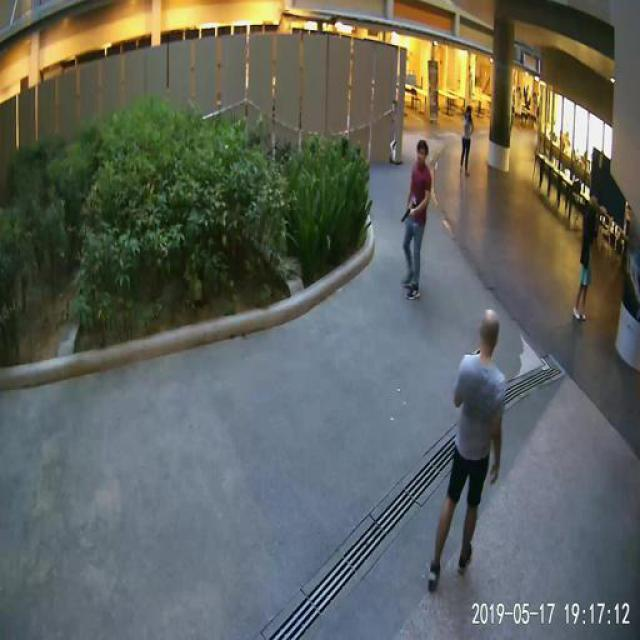Gun: (400, 206, 410, 220)
